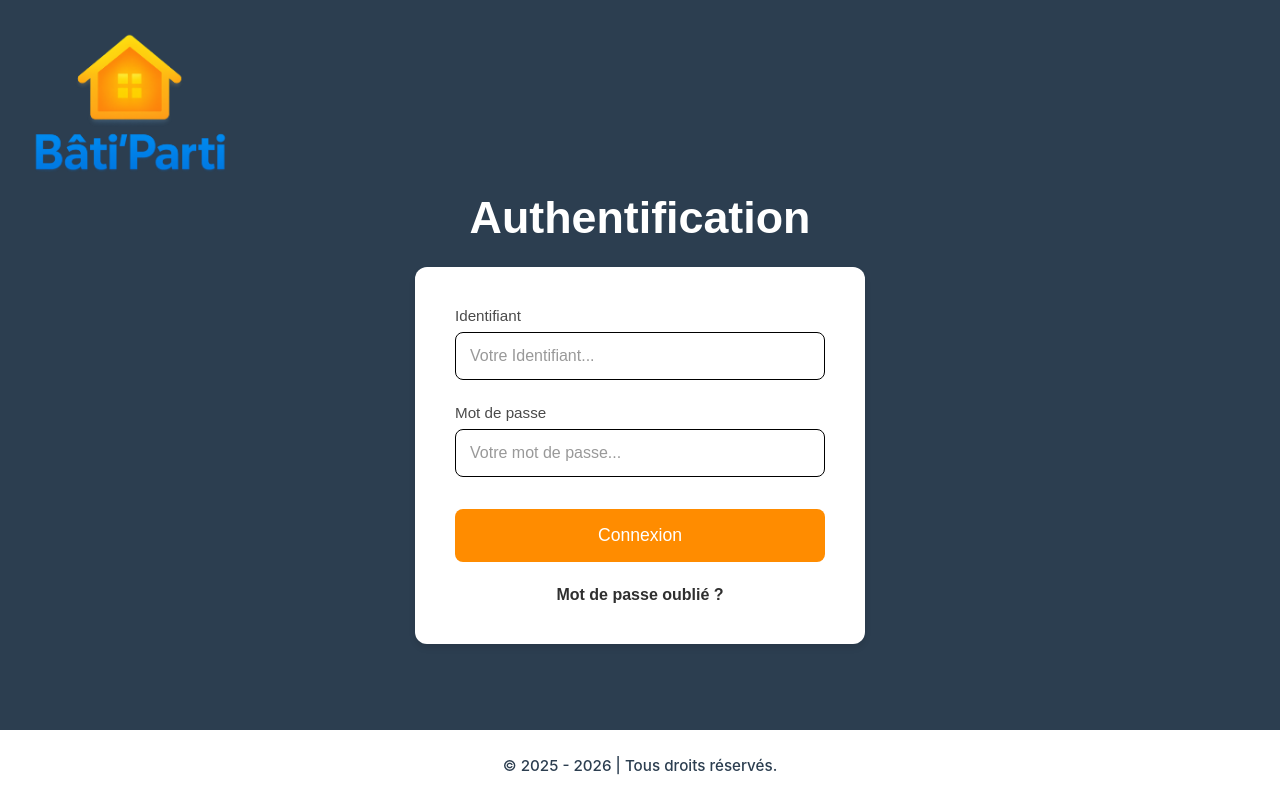
Scenario: Page de connexion › affiche un message d'erreur si Login vide
Type "wrongpass" into the password field with placeholder "Votre mot de passe..." at (640, 453), box [455,429,825,477]
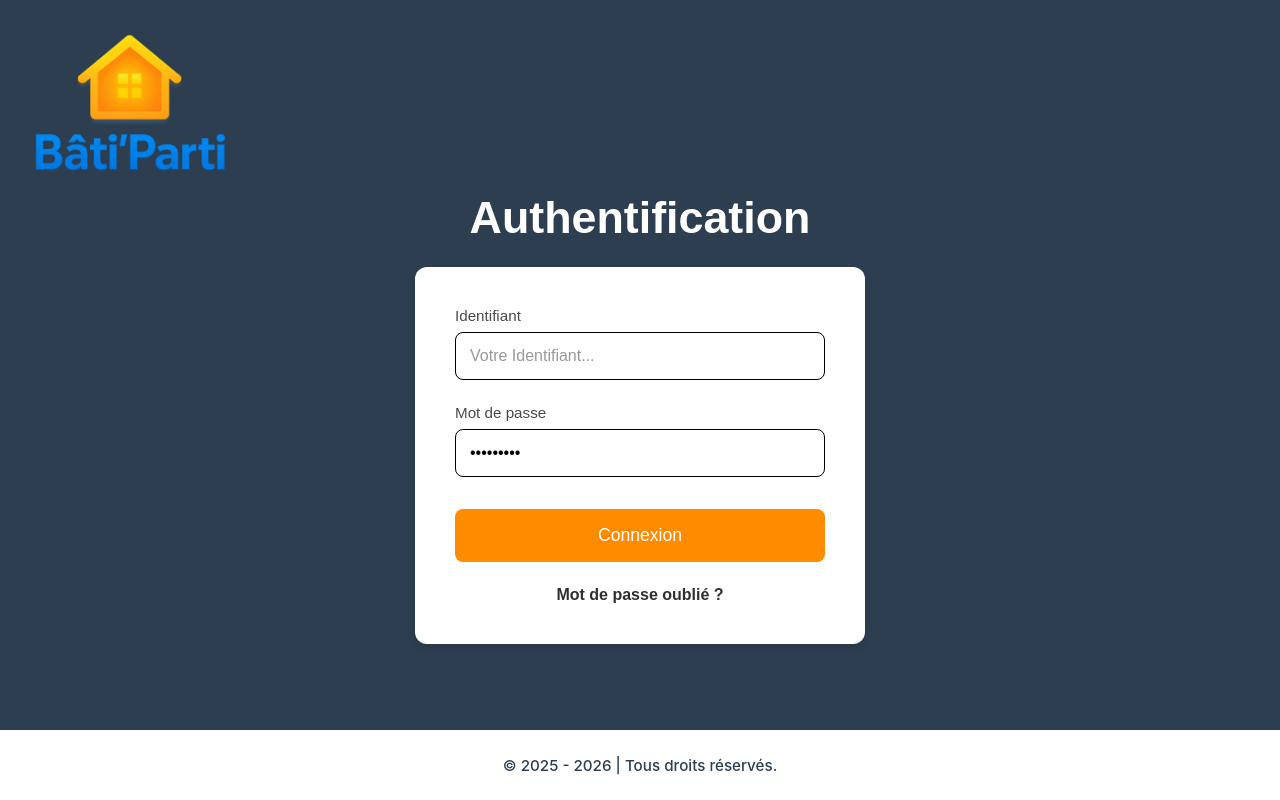
Simule un click sur le bouton connexion
Click the button "Connexion" at (640, 536), box [455,509,825,562]
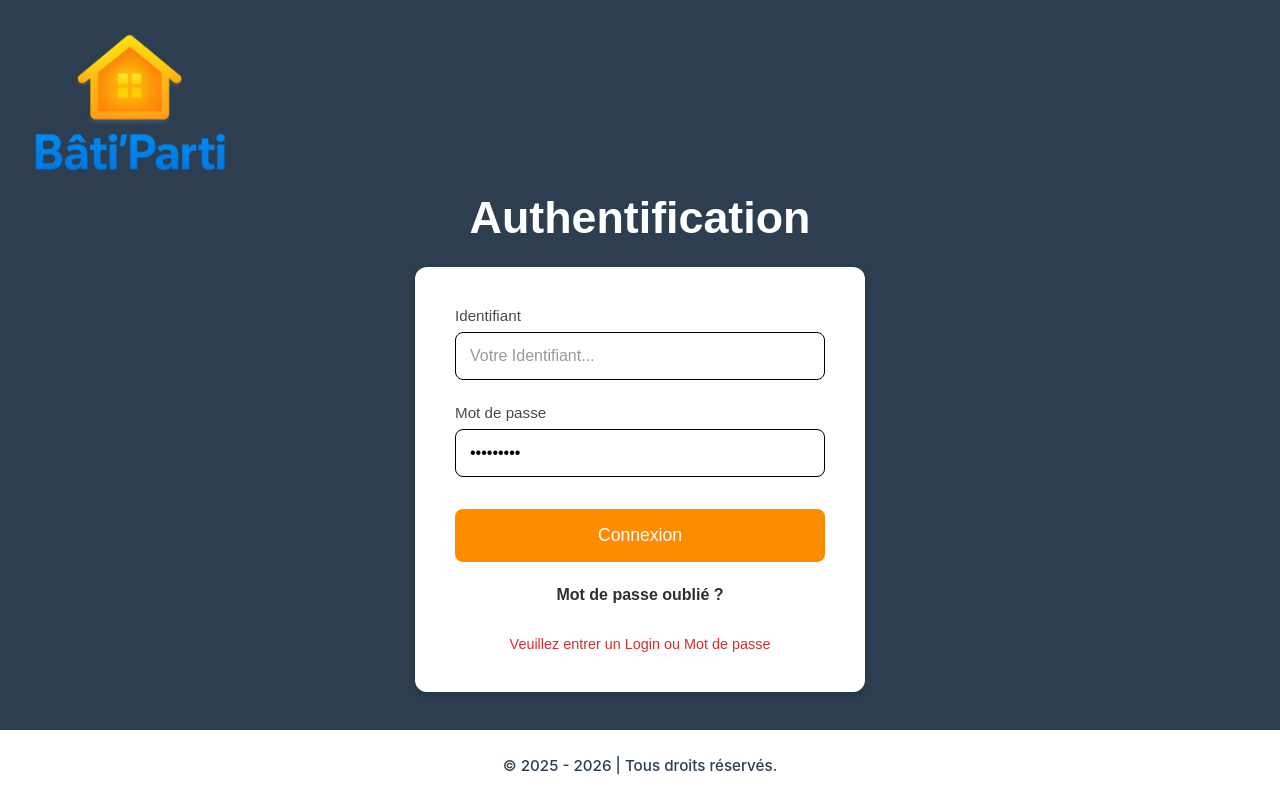
Result: the text "Veuillez entrer un Login ou Mot de passe" is shown at [510,636,770,652]
